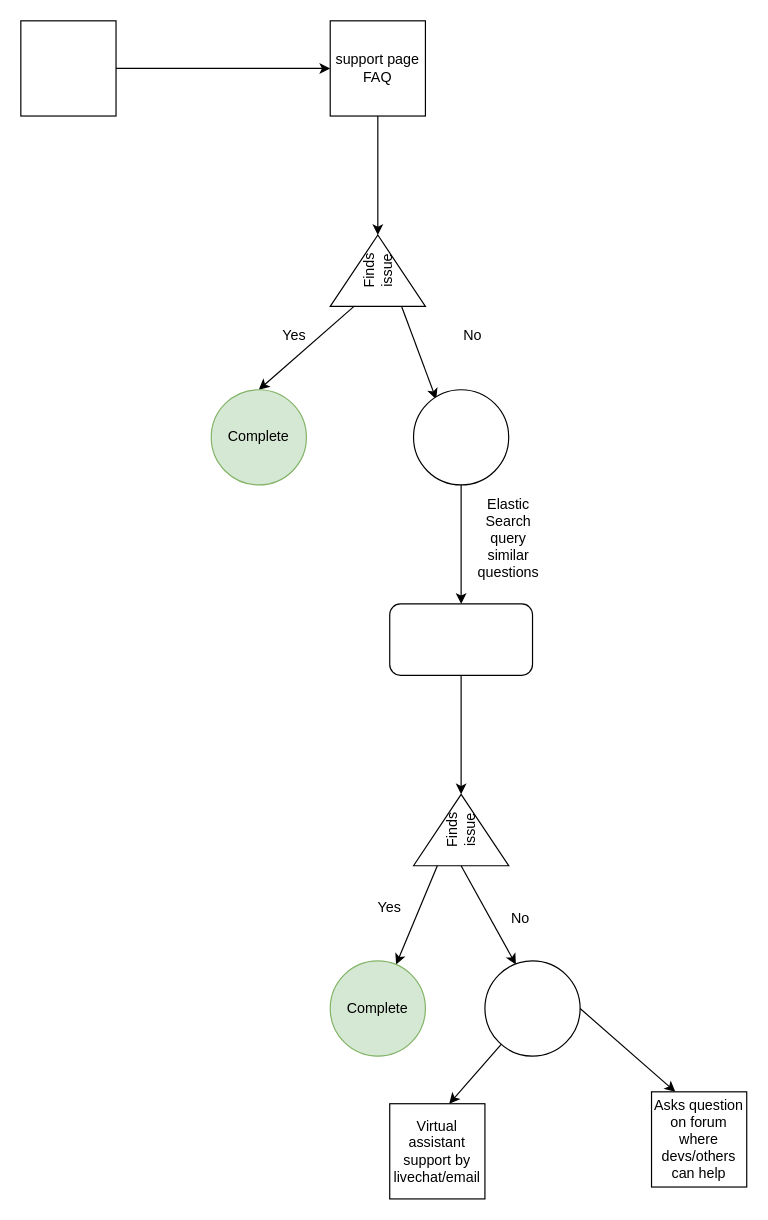
The diagram is 768 pixels wide and 1220 high, and some of its shapes have lost their labels. The centre of each missing label's shape, as x and y in pixels:
"3 minutes looking through questions (average)" belongs at pixel 461 639.
"CHT FORUM" belongs at pixel 532 1008.
"Search Bar" belongs at pixel 460 437.
"User issue" belongs at pixel 68 68.
